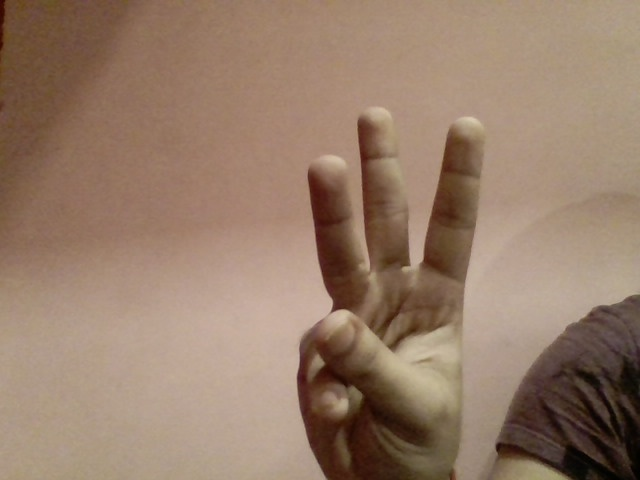w: (283, 96, 489, 480)
